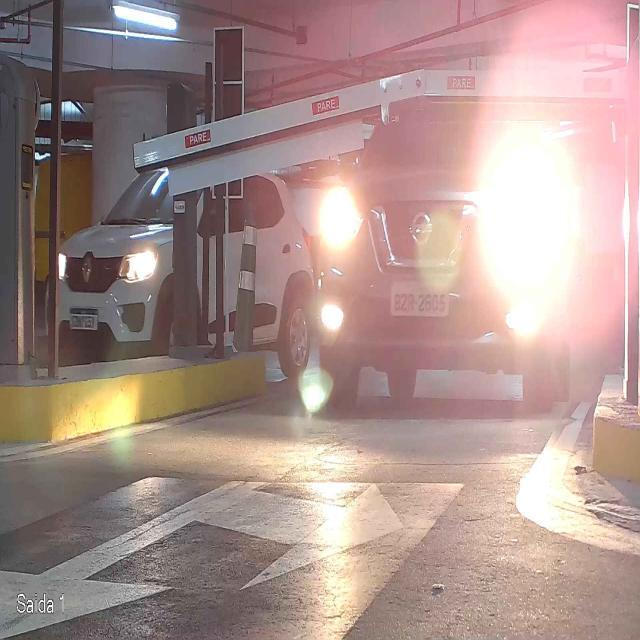old_plate: (389, 278, 451, 318)
